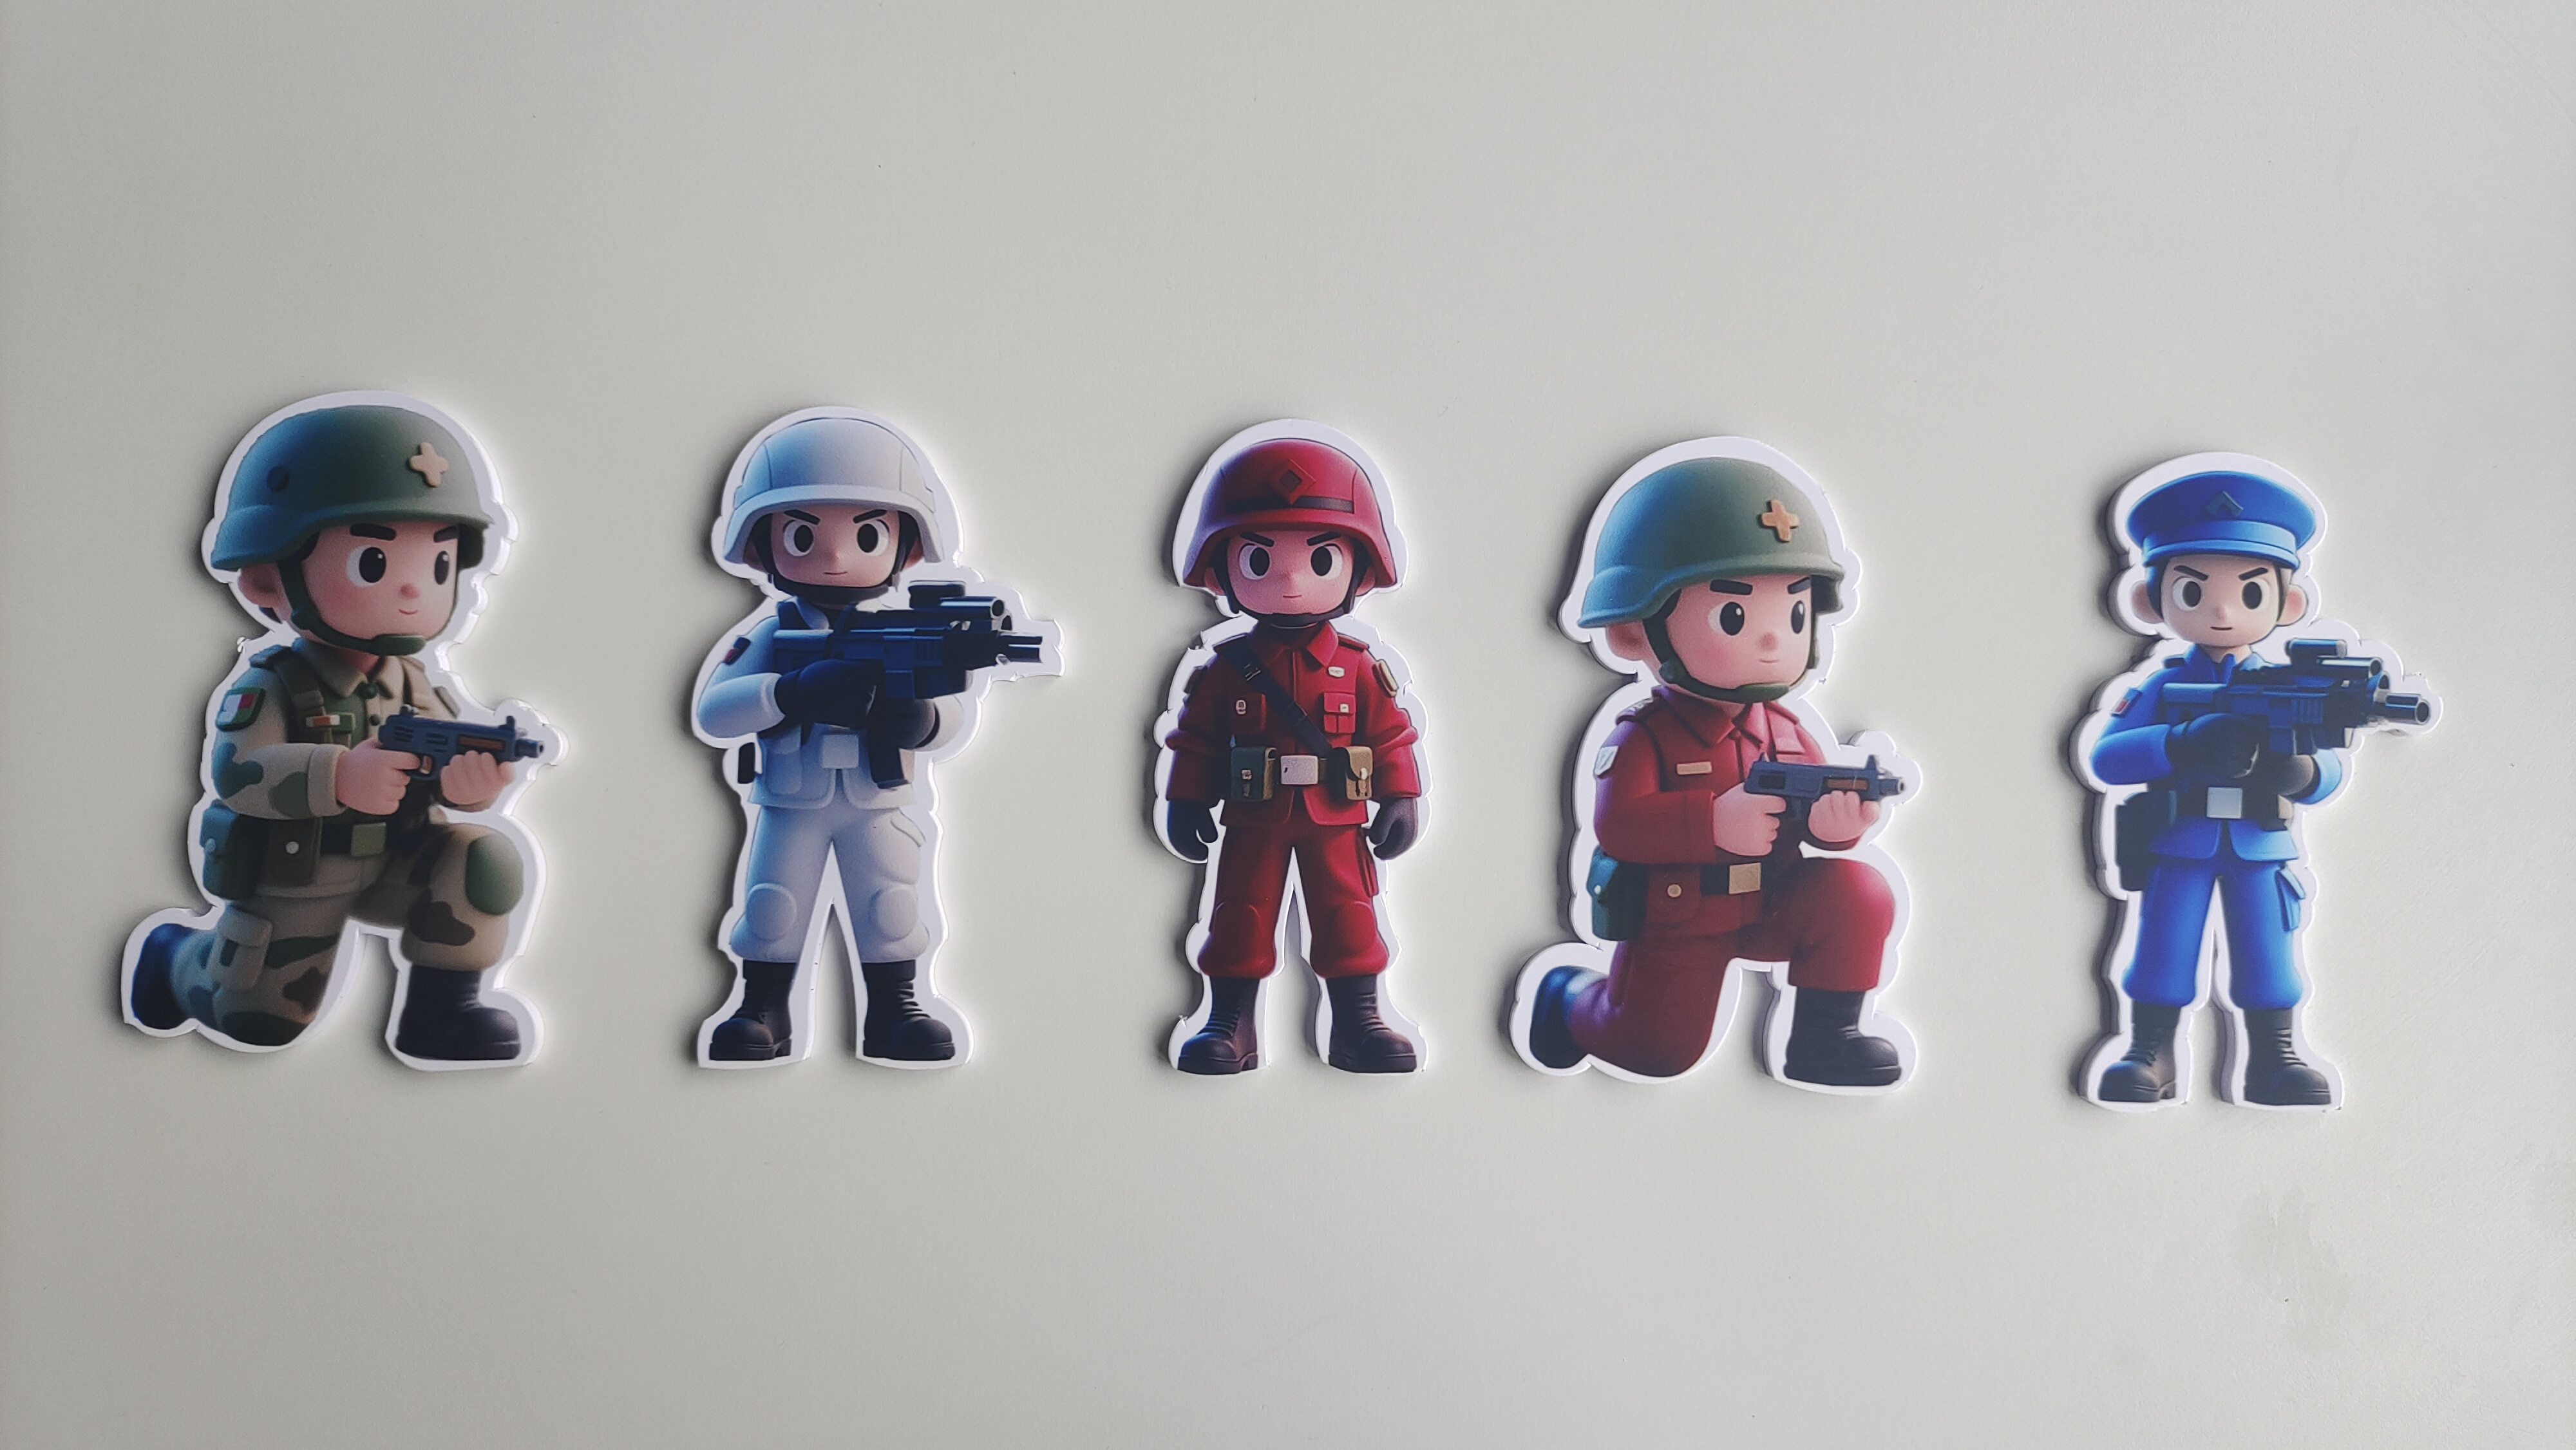enemy1: (1499, 716, 1921, 1103), (1129, 621, 1442, 1093)
enemy2: (2052, 644, 2378, 1130)
friend: (96, 647, 568, 1093)
hostage: (672, 605, 1008, 1093)
